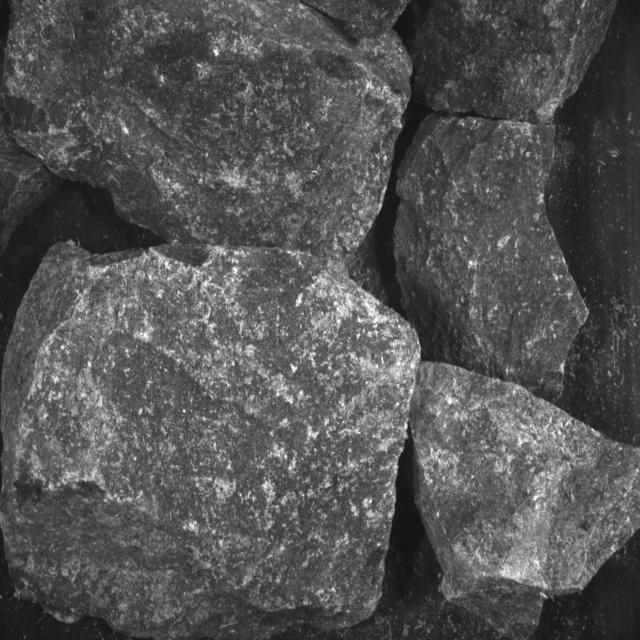Stones: (1, 245, 421, 639), (6, 1, 412, 256), (411, 363, 640, 639), (396, 115, 589, 401), (411, 1, 617, 123), (1, 109, 61, 256), (305, 1, 410, 41)
